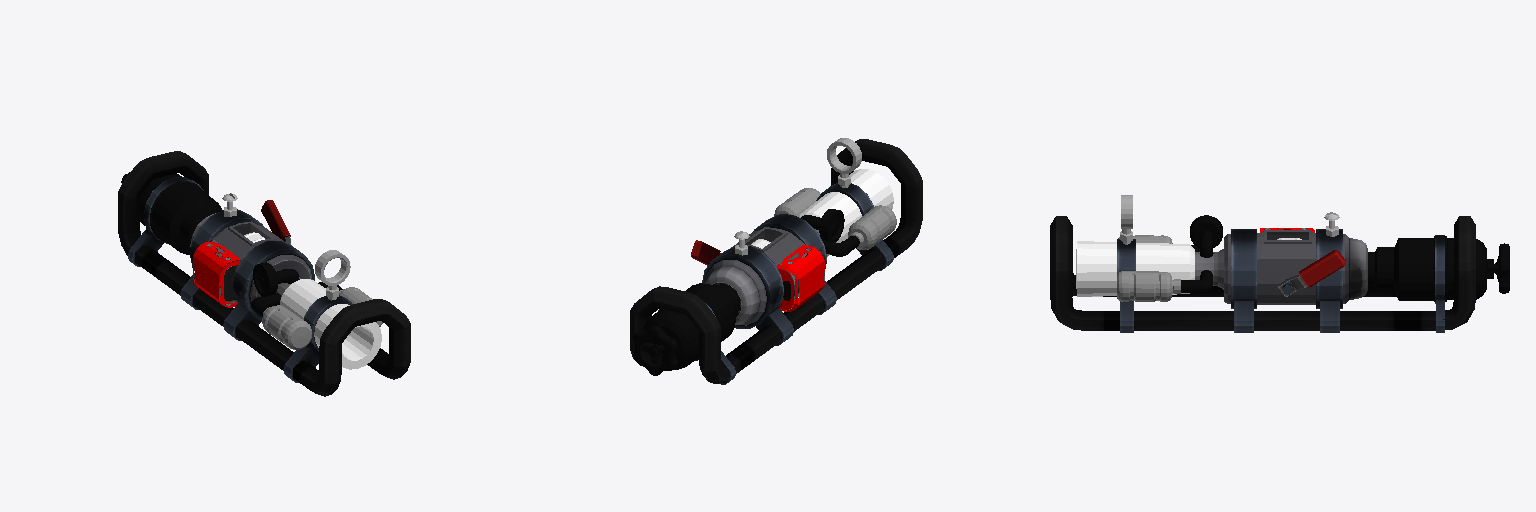
3 renders of one model, left to right at view 1: azimuth 30°, elevation 25°; view 2: azimuth 150°, elevation 25°; view 3: azimuth 270°, elevation 25°, orthographic.
Visible parts, largest first — view 1: polySurface126.013_Mesh.041, fant_cannon_sm_style_Mesh.031; view 2: polySurface126.013_Mesh.041, fant_cannon_sm_style_Mesh.031; view 3: polySurface126.013_Mesh.041, fant_cannon_sm_style_Mesh.031.
Part boxes in pixels (x1,y1,x2,y2): polySurface126.013_Mesh.041: (121,172,382,382); fant_cannon_sm_style_Mesh.031: (118,151,410,396); polySurface126.013_Mesh.041: (633,138,896,384); fant_cannon_sm_style_Mesh.031: (630,139,922,383); polySurface126.013_Mesh.041: (1076,195,1509,332); fant_cannon_sm_style_Mesh.031: (1050,216,1475,330).
Size of the model in its own units: 3.51 by 3.97 by 13.88.
Materials: 8 (1 with a texture image).